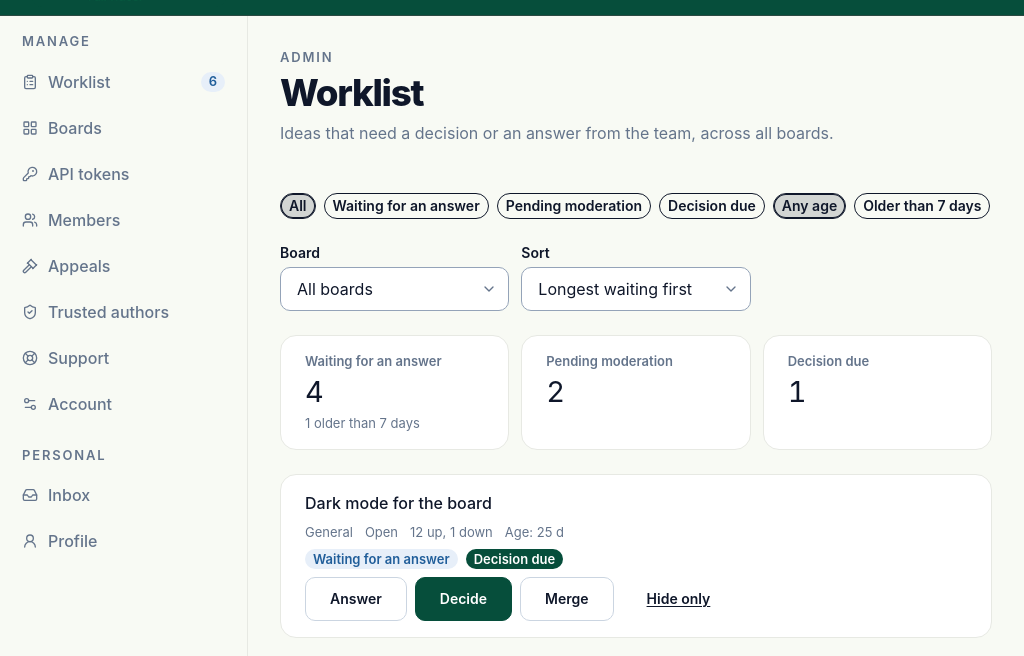
Scenario: WorklistPage — row actions (P-06 slice 04) › dismisses an unanswered row, offers undo and restores the row on undo
Click the button with test id "worklist-row-11-dismiss": (678, 599) [622, 577, 735, 621]
(page scrolled)
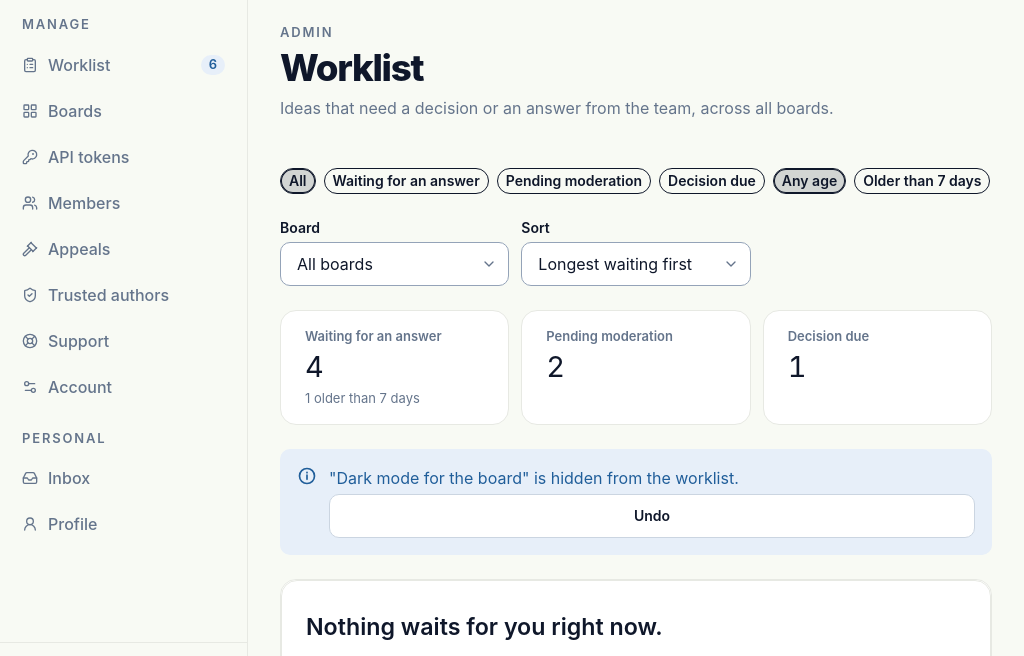
Result: the list item with test id "worklist-row-11" is gone
Result: the message "\"Dark mode for the board\" is hidden from the worklist. Undo" is shown at [280, 449, 992, 555]
Click the button with test id "worklist-undo": (652, 516) [329, 494, 975, 538]
(page scrolled)
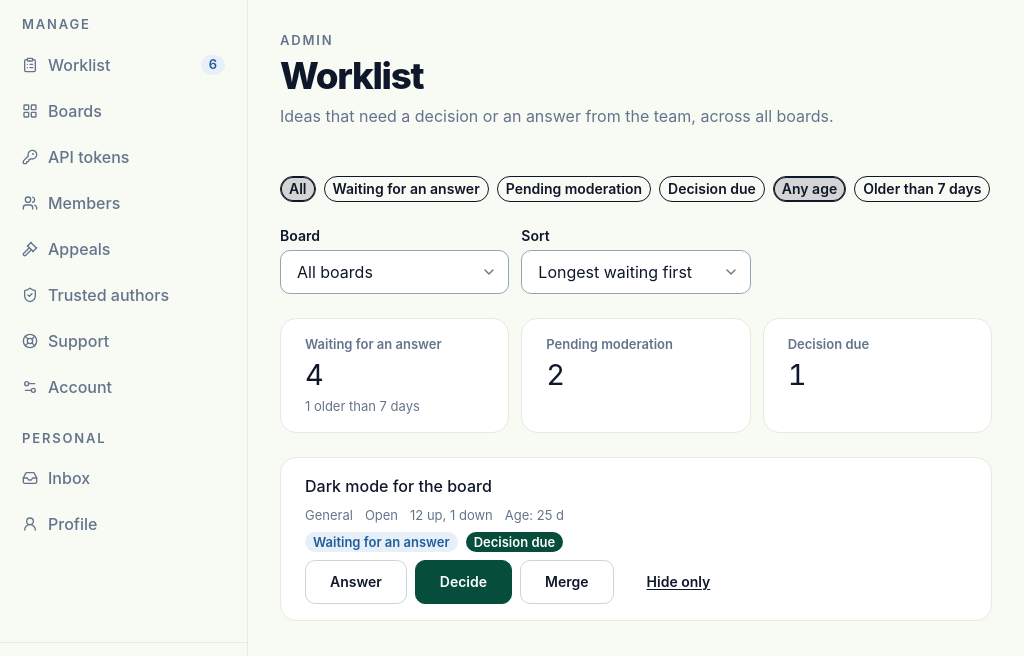
Result: the list item with test id "worklist-row-11" is shown at [305, 476, 735, 604]
Result: the message with test id "worklist-undo-toast" is gone
